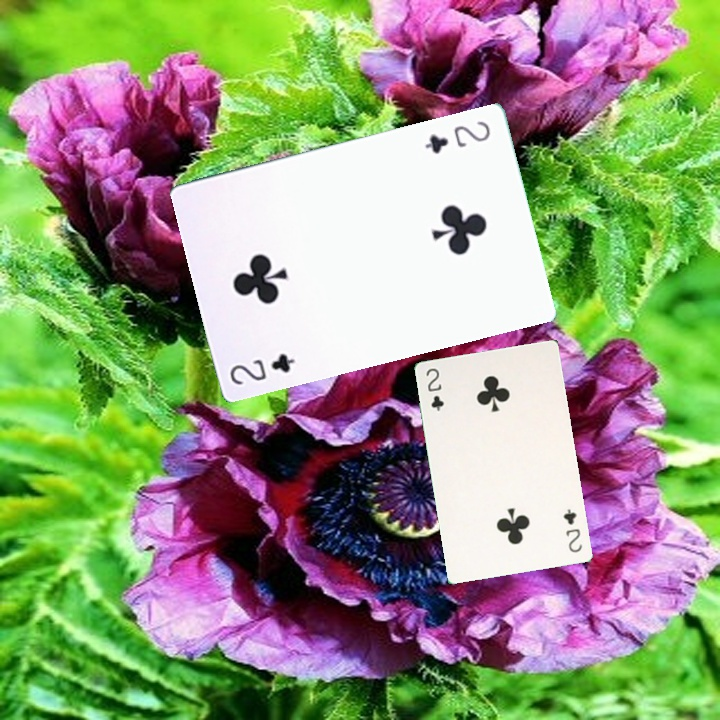2c: (421, 117, 493, 157), (225, 349, 298, 388), (559, 505, 585, 555), (422, 364, 447, 413)
